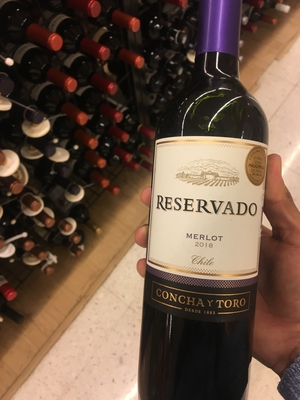reservado merlot: (147, 13, 288, 396)
